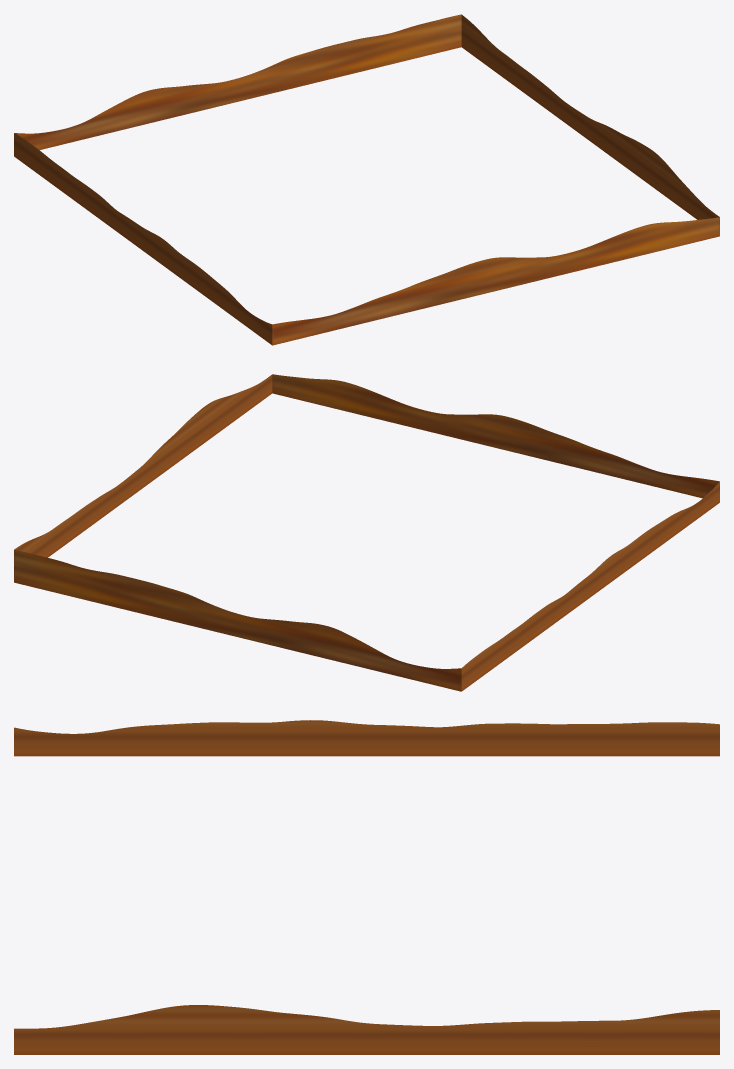
The model's file is ground side.FBX.
3 renders of one model, top to bottom at view 1: azimuth 30°, elevation 25°; view 2: azimuth 150°, elevation 25°; view 3: azimuth 270°, elevation 25°, orthographic. The views are drawn at different scales.
Visible parts, largest first — view 1: ground gradient; view 2: ground gradient; view 3: ground gradient.
Part boxes in pixels (x1,y1,x2,y2): ground gradient: (14, 14, 719, 345); ground gradient: (14, 374, 719, 691); ground gradient: (14, 720, 719, 1054).
Size of the model in its own units: 100 by 7.81 by 100.
